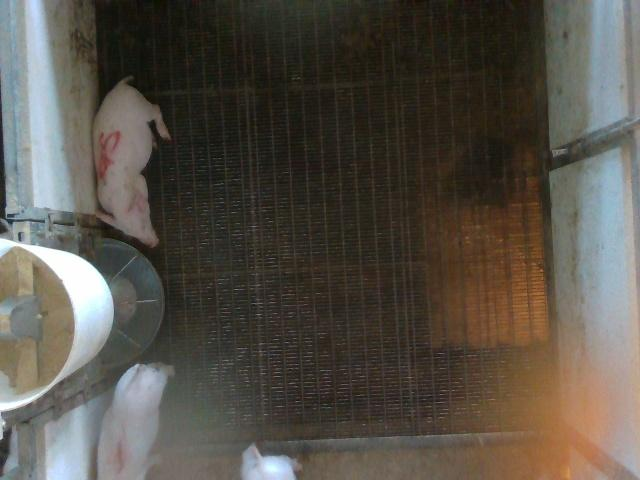pig-1: (98, 364, 174, 478)
pig-5: (94, 76, 171, 247)
